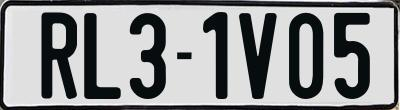0: (287, 10, 327, 101)
1: (203, 11, 228, 98)
3: (127, 11, 165, 102)
5: (333, 10, 372, 98)
L: (82, 10, 123, 102)
R: (40, 9, 77, 98)
V: (236, 11, 277, 97)
